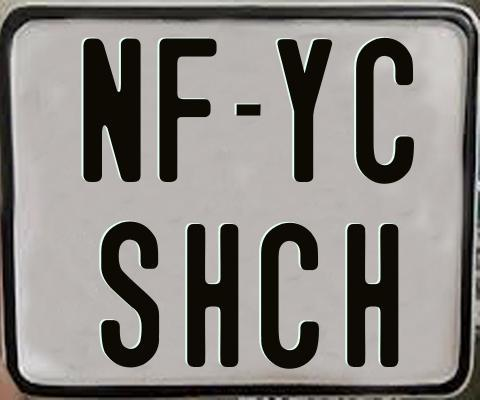C: (355, 36, 414, 183), (259, 221, 317, 368)
F: (159, 37, 220, 182)
H: (347, 221, 405, 366), (187, 222, 245, 366)
N: (81, 37, 144, 185)
S: (100, 218, 163, 368)
Y: (276, 38, 333, 182)
